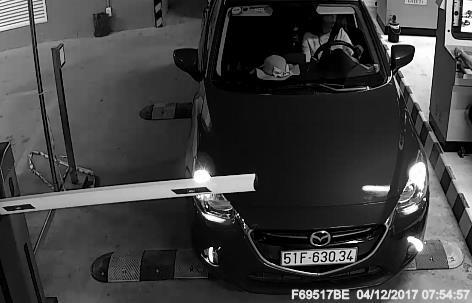License-plate: (271, 236, 367, 276)
